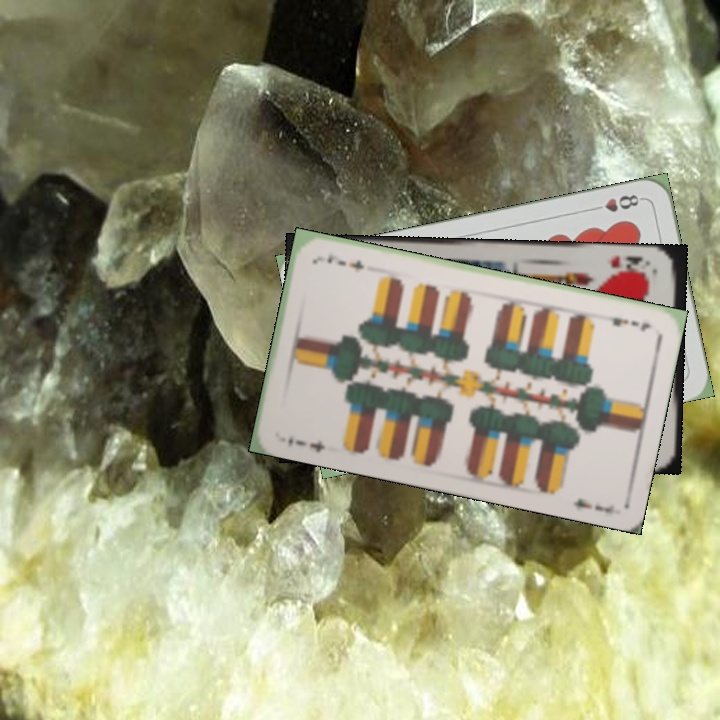E7: (599, 310, 654, 334), (283, 434, 327, 455)
H8: (587, 190, 646, 215)
HK: (606, 251, 653, 278)
